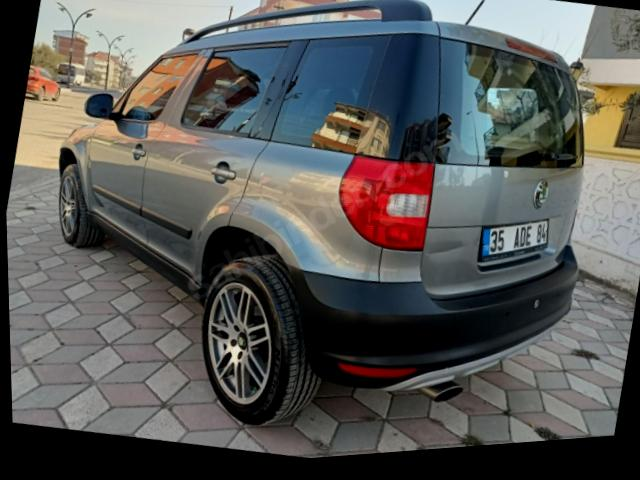plaka: (477, 220, 548, 264)
